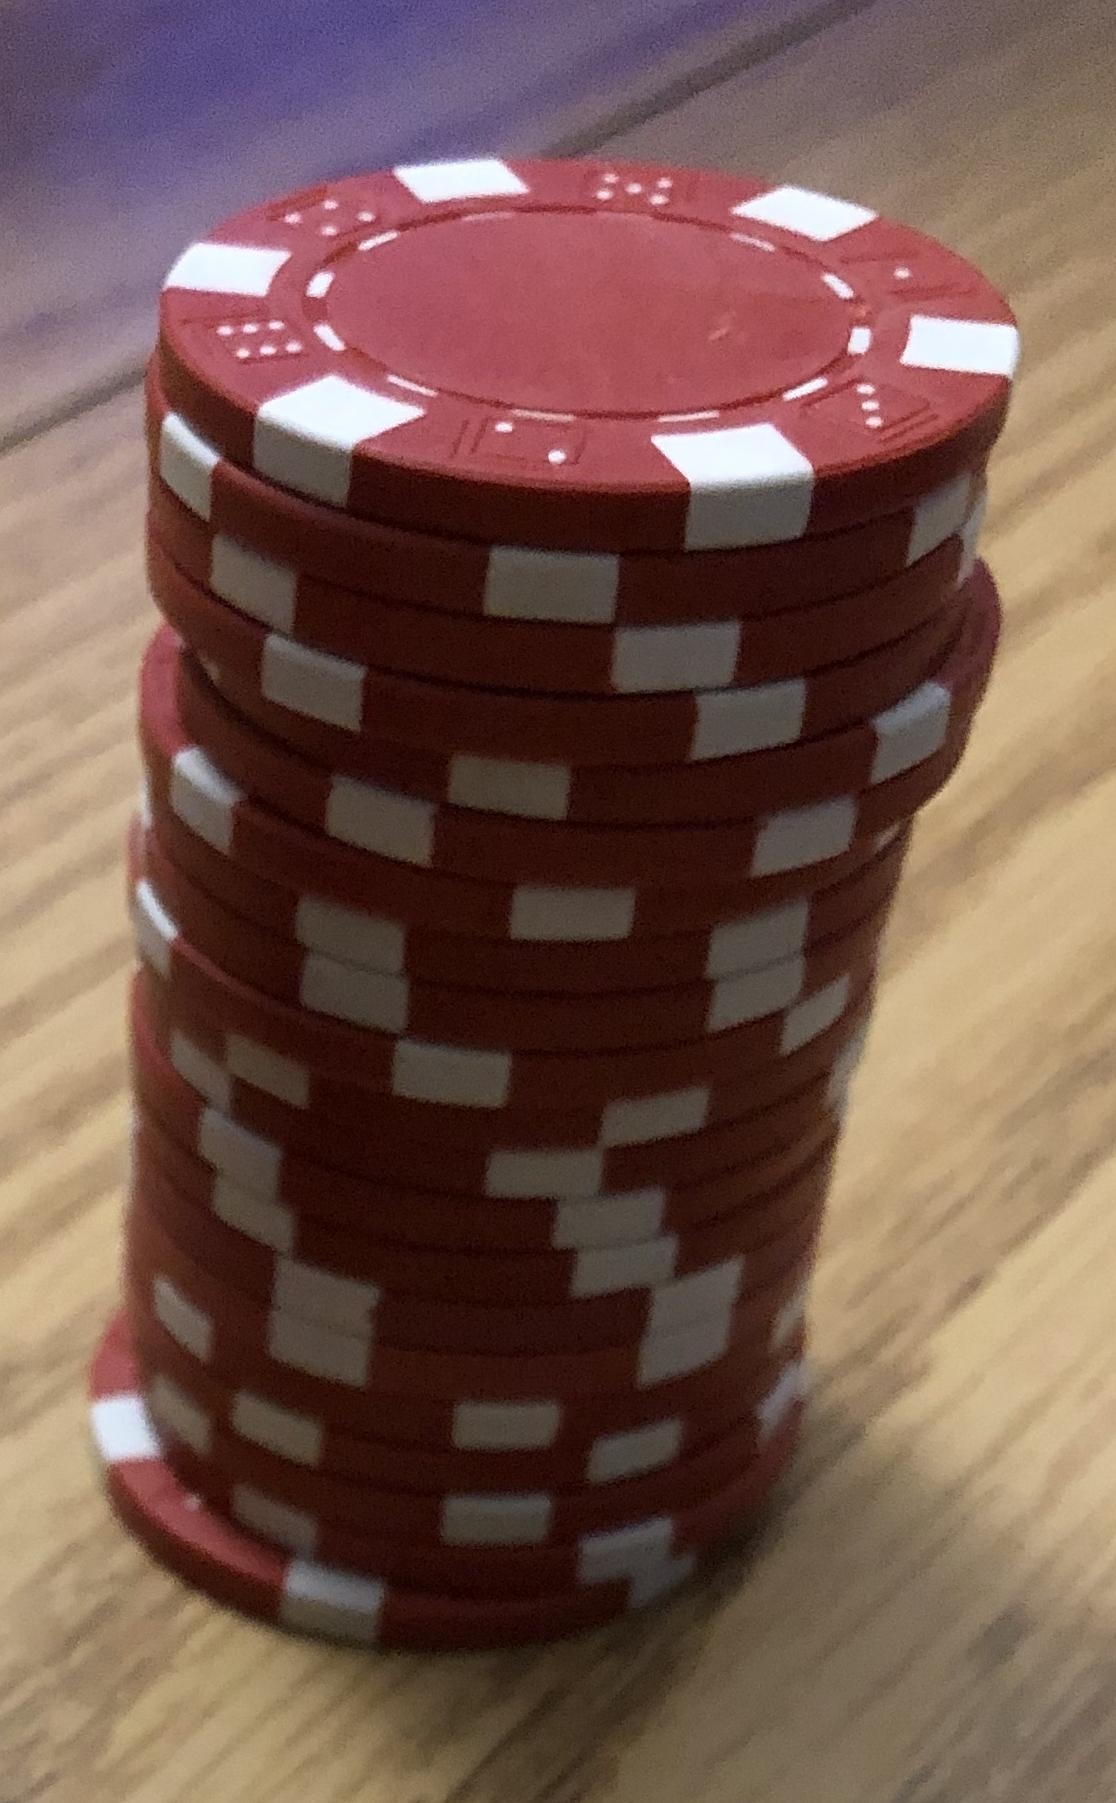Chip: (1, 1, 1116, 1803)
